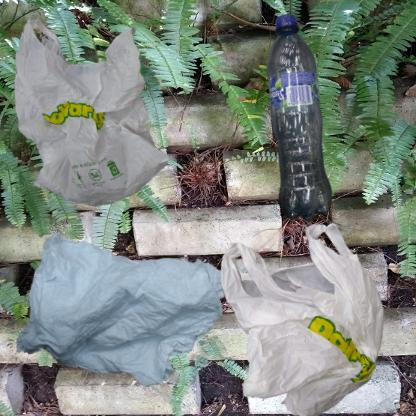bolsa: (213, 213, 410, 416), (10, 10, 174, 213)
botella: (213, 10, 416, 269)
papel: (10, 213, 259, 416)
